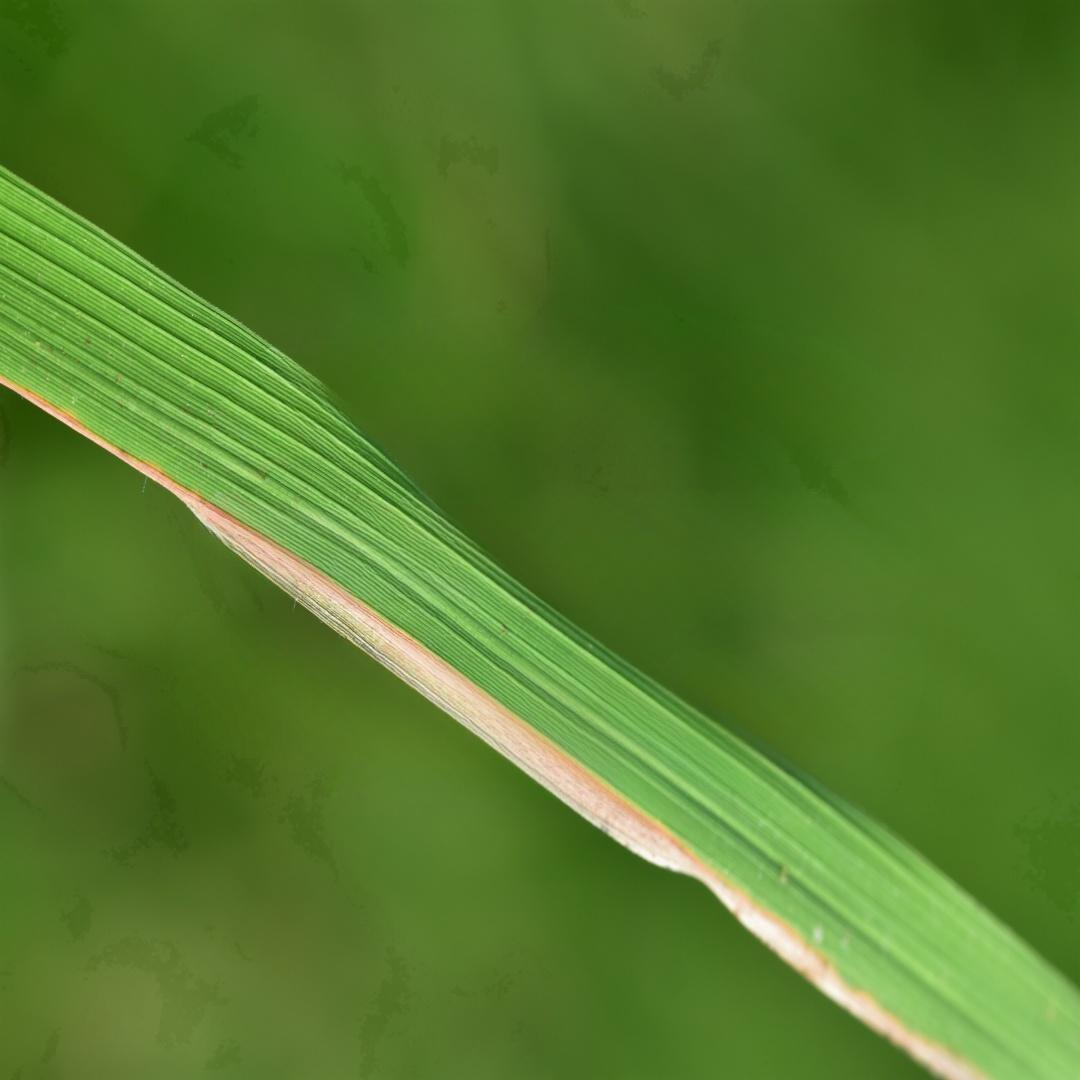BLB: (0, 377, 986, 1079)
